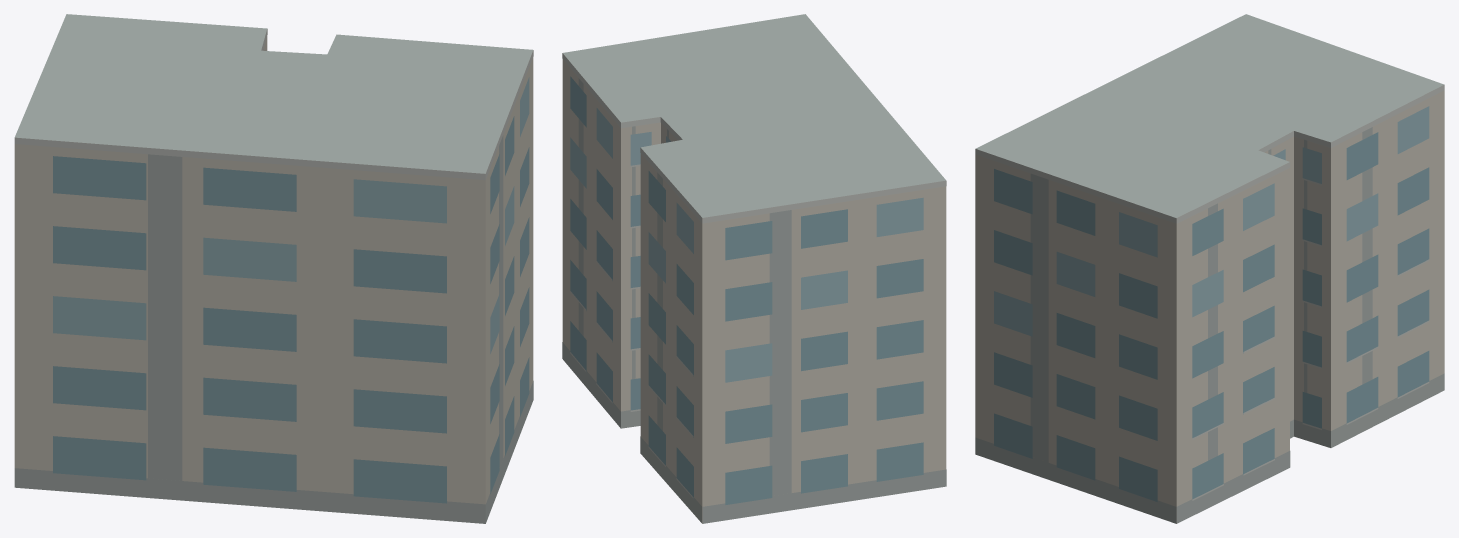
The model's file is survey-upis-33021703.glb.
3 views of the same model, side by side, from view 1: azimuth 30°, elevation 25°; view 2: azimuth 150°, elevation 25°; view 3: azimuth 270°, elevation 25° (orthographic). The views are drawn at different scales.
Visible parts, largest first — view 1: survey-upis-33021703.tmp; view 2: survey-upis-33021703.tmp; view 3: survey-upis-33021703.tmp.
Part boxes in pixels (x1,y1,x2,y2): survey-upis-33021703.tmp: (14,14,533,523); survey-upis-33021703.tmp: (562,14,946,523); survey-upis-33021703.tmp: (975,14,1444,523).
Bounding box in the file's own units: 18.99 × 13.25 × 18.44.
